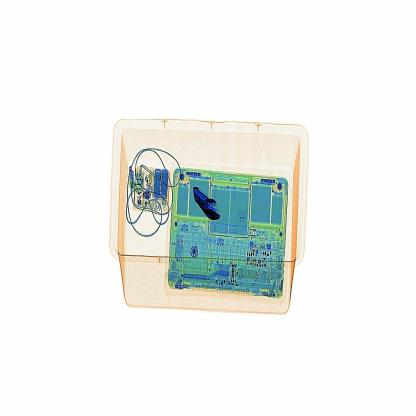pliers: (186, 182, 230, 232)
